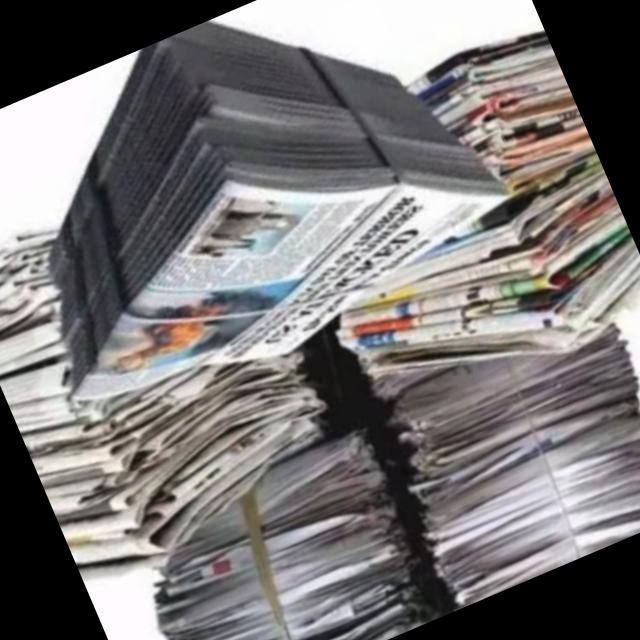Koran: (0, 0, 536, 442), (251, 19, 640, 437), (0, 151, 360, 599), (358, 289, 640, 612)
